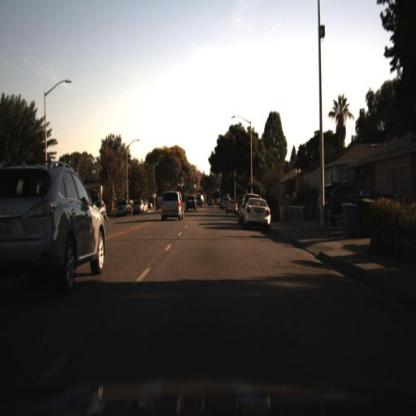car: (2, 162, 107, 290), (312, 180, 394, 222), (243, 199, 273, 233), (162, 191, 185, 223), (112, 197, 133, 218), (183, 195, 198, 215), (115, 199, 131, 217), (223, 200, 241, 216), (134, 199, 146, 217), (207, 197, 216, 206)
